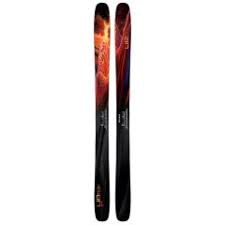skis: (93, 2, 131, 223)
